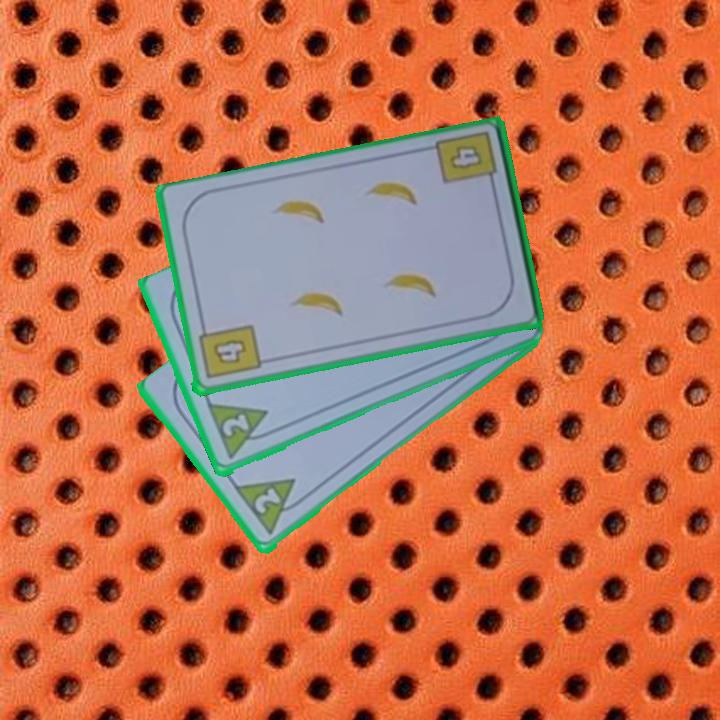2p: (231, 474, 310, 540), (204, 400, 278, 464)
4b: (194, 320, 263, 382), (445, 142, 485, 173)
